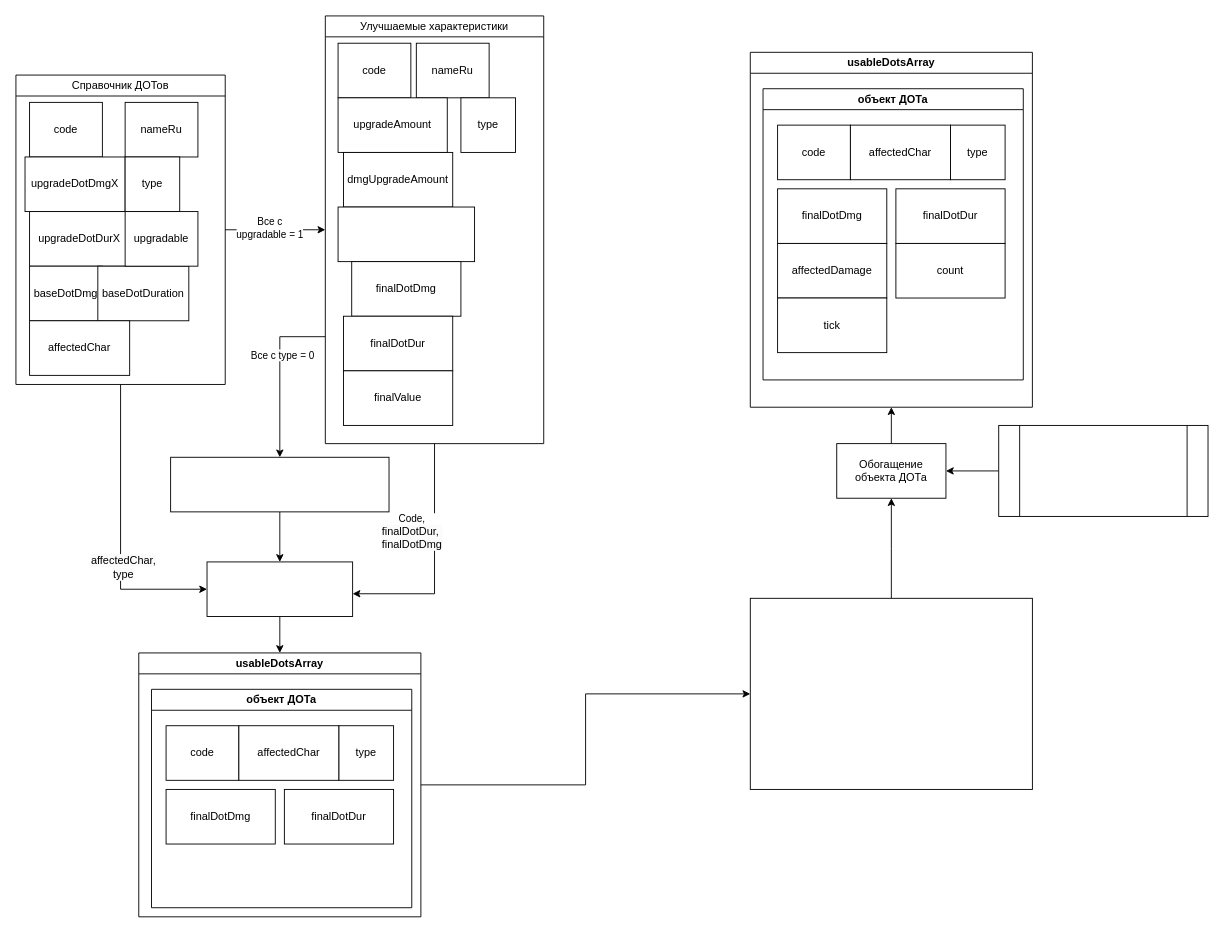
The diagram is 1224 pixels wide and 933 high, and some of its shapes have lost their labels. The centre of each missing label's shape, as x and y in pixels:
affectedDamage = 0, count = 1 tick = 0: point 1103,470
durationUpgradeAmount: point 406,234
конструктор объектов наносимых дотов: point 279,589
Метод формирования массива объектов имеющихся дотов usableDotsArray: point 279,484
Процесс стрельбы, передача массива в патрони и из патрона в жертву: point 890,693
